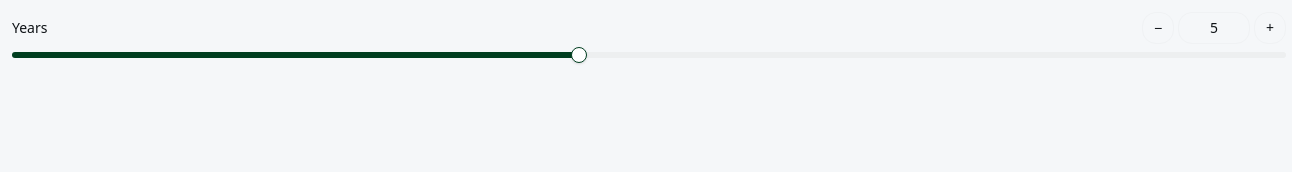
Test: SliderField touch-friendly enhancements › stepper buttons › increments value when + button is clicked
This screenshot has width=1292, height=172.
What coordinates should you click on to do the following:
click the button named "increase years"
I would click on:
 (1270, 28)
Its box is [1254,12,1286,44].
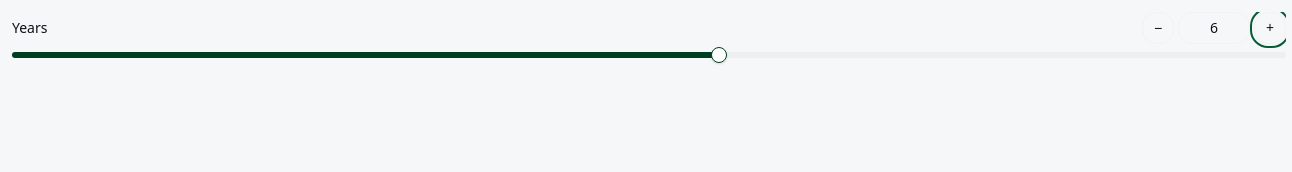
Expected: the button named "edit years value" reads "6", [1178,12,1250,44]
